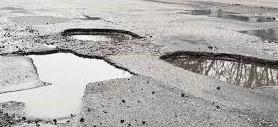pothole: (0, 44, 137, 123), (146, 46, 278, 96), (57, 24, 144, 45)
